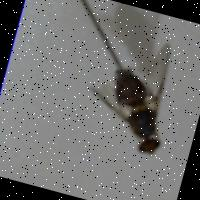Oriental-fruit-fly: (72, 21, 198, 164)
